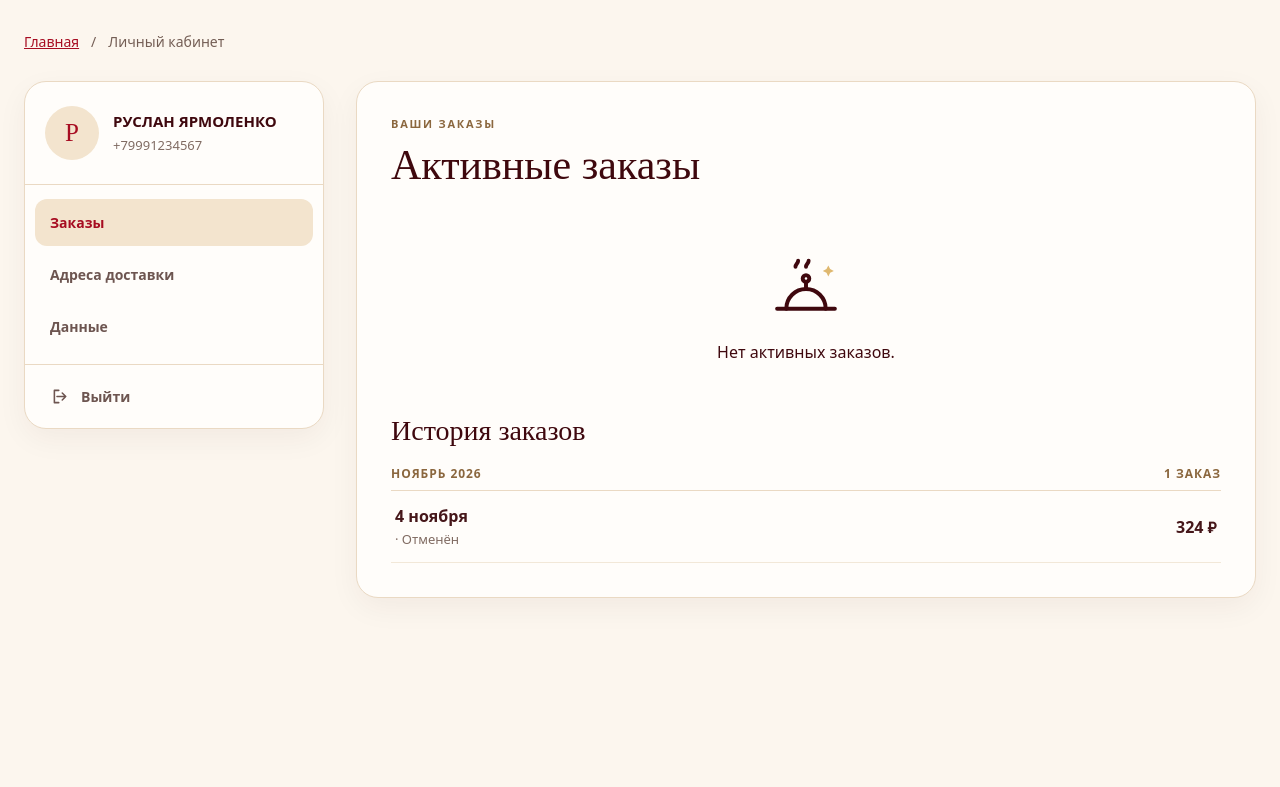
этапы приготовления сохраняются при статусе оплаты $paymentStatus
Expected: the text "Нет активных заказов." is shown, [717,341,895,363]
Click the button "4 ноября · Отменён 324 ₽". click: (438, 516)
box: [391,491,1221,563]
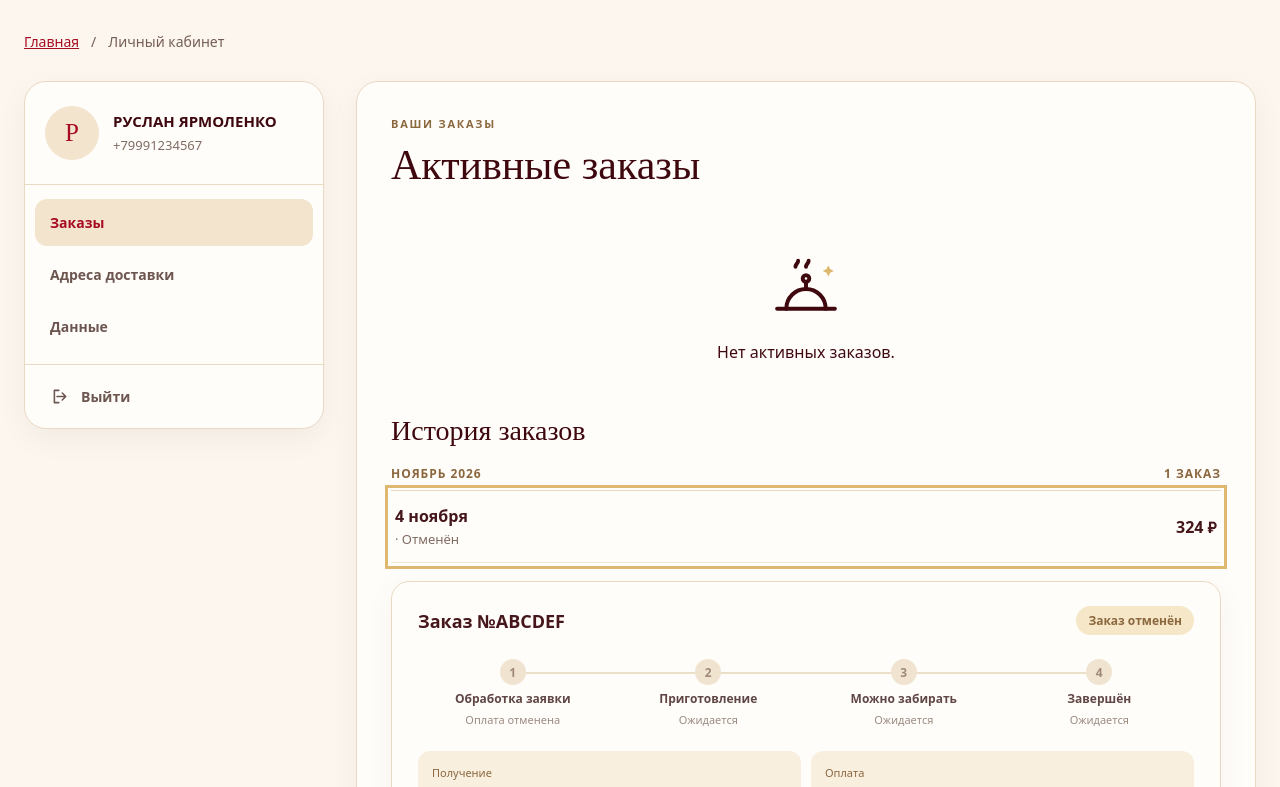
Expected: the number of list items is 4, [455,659,571,727]; [659,659,757,727]; [851,659,957,727]; [1067,659,1131,727]
Expected: the text "Обработка заявки" is shown, [455,690,571,707]
Expected: the text "Приготовление" is shown, [659,690,757,707]
